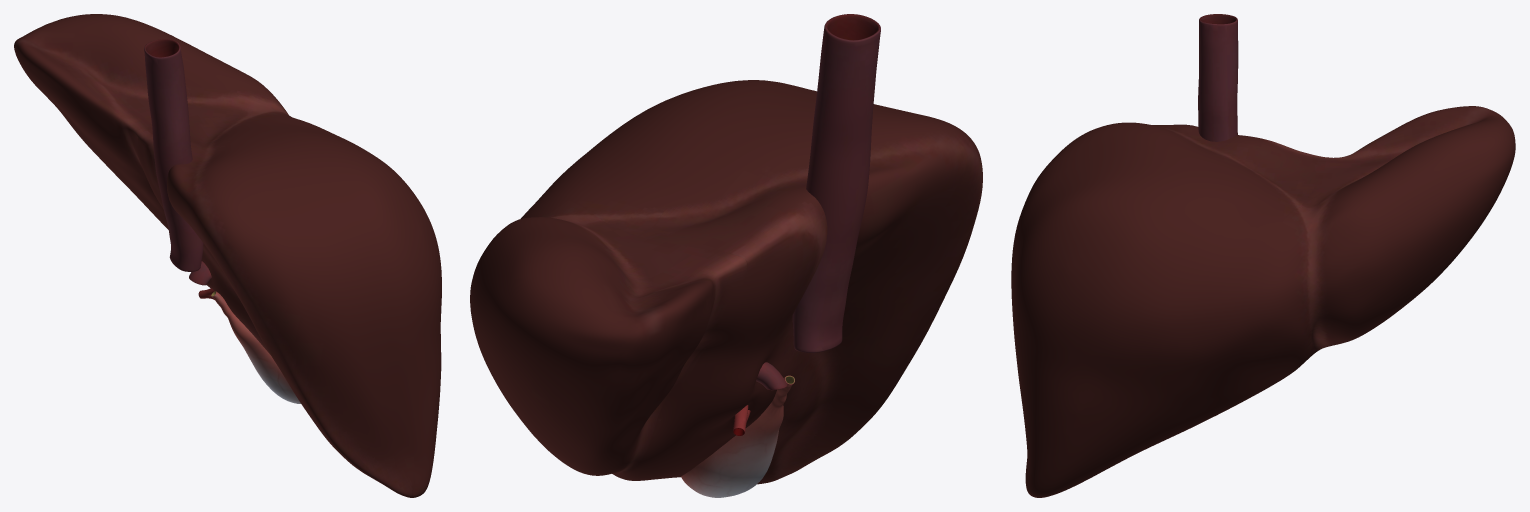
File: liver.glb
3 renders of one model, left to right at view 1: azimuth 30°, elevation 25°; view 2: azimuth 150°, elevation 25°; view 3: azimuth 270°, elevation 25°, orthographic. The views are drawn at different scales.
Parts seen in each view (by area): view 1: liver.001_Material.011_0, inferior vena cava.001_Material.012_0, gallbladder.002_Material.013_0; view 2: liver.001_Material.011_0, inferior vena cava.001_Material.012_0, gallbladder.002_Material.013_0, portal vein.001_Material.015_0; view 3: liver.001_Material.011_0, inferior vena cava.001_Material.012_0.
Part boxes in pixels (<box>): liver.001_Material.011_0: <box>14,14,441,497</box>; inferior vena cava.001_Material.012_0: <box>144,39,203,271</box>; gallbladder.002_Material.013_0: <box>211,291,300,403</box>; liver.001_Material.011_0: <box>470,80,982,484</box>; inferior vena cava.001_Material.012_0: <box>792,14,880,352</box>; gallbladder.002_Material.013_0: <box>681,375,794,497</box>; portal vein.001_Material.015_0: <box>756,362,787,390</box>; liver.001_Material.011_0: <box>1011,106,1515,497</box>; inferior vena cava.001_Material.012_0: <box>1198,14,1238,141</box>.
Size of the model in its own units: 0.1362 by 0.2221 by 0.2515.
Materials: 5 (5 with a texture image).
